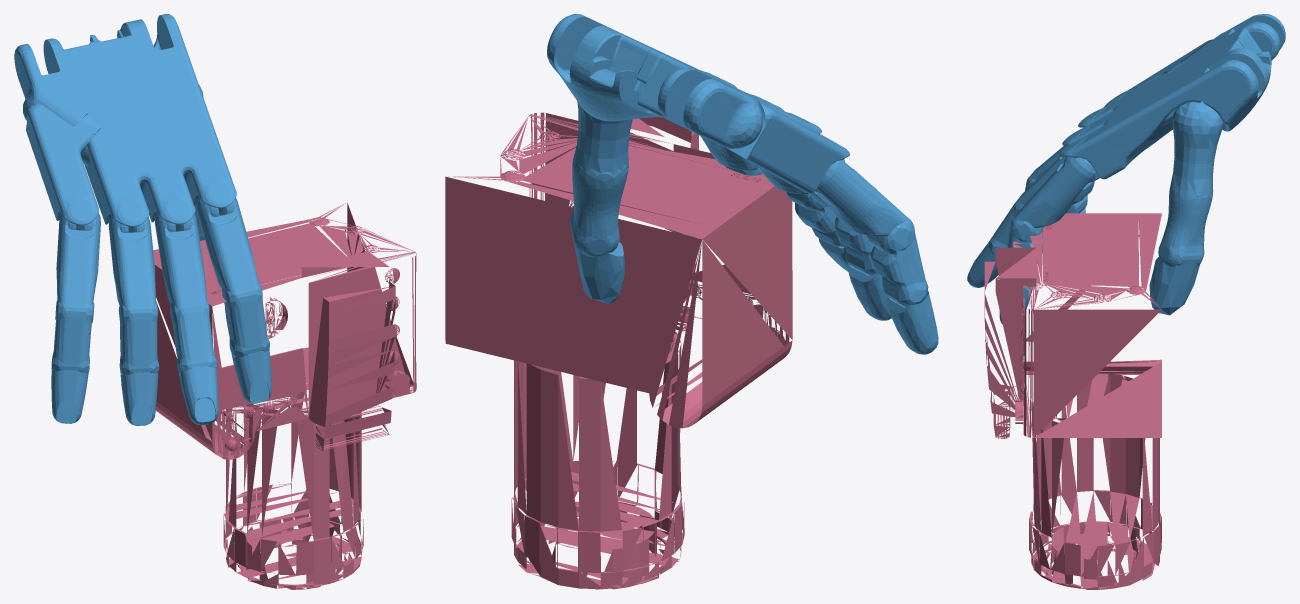
3 renders of one model, left to right at view 1: azimuth 30°, elevation 25°; view 2: azimuth 150°, elevation 25°; view 3: azimuth 270°, elevation 25°, orthographic. The views are drawn at different scales.
Visible parts, largest first — view 1: 2; view 2: 2; view 3: 2.
Boxes of the visible parts, x1=… form: 2: x1=14, y1=14, x2=416, y2=589; 2: x1=445, y1=14, x2=938, y2=589; 2: x1=967, y1=14, x2=1285, y2=589.
Size of the model in its own units: 0.1909 by 0.2687 by 0.1607.
